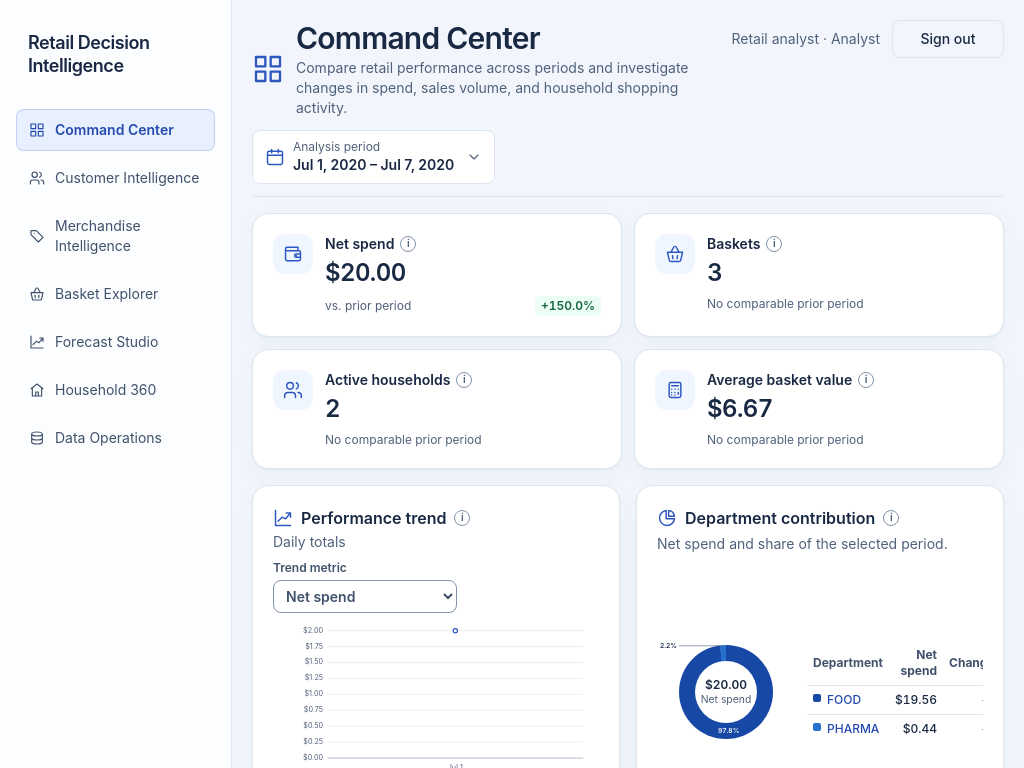
Test: Command Center › filters retail results, switches the trend metric, and opens evidence
The width and height of the screenshot is (1024, 768).
Earlier steps of the test are not shown.
Later steps or results of the test are not shown.
Select "Net units" in the dropdown labelled "Trend metric" at (365, 596), box [273,580,457,613]
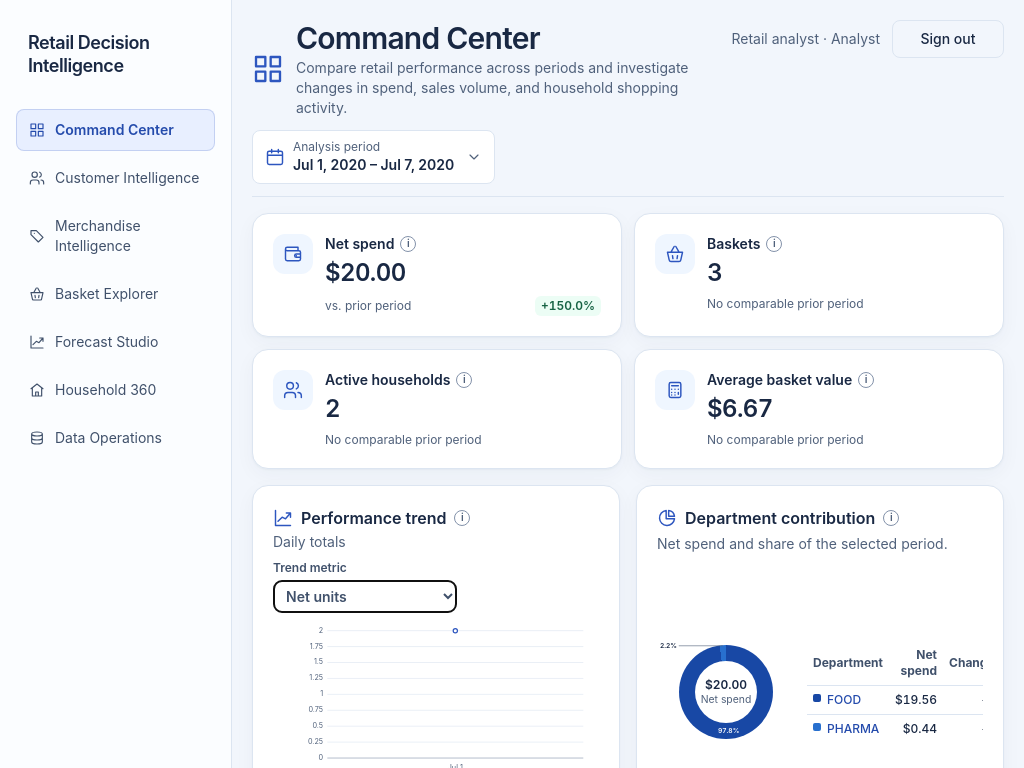
Check: the heading "Department contribution" is shown, box [657,506,875,530]
Check: the field labelled "FOOD 97.8%" is shown, box [718,726,740,734]
Click the button "PHARMA" at (853, 729), box [827,721,879,737]
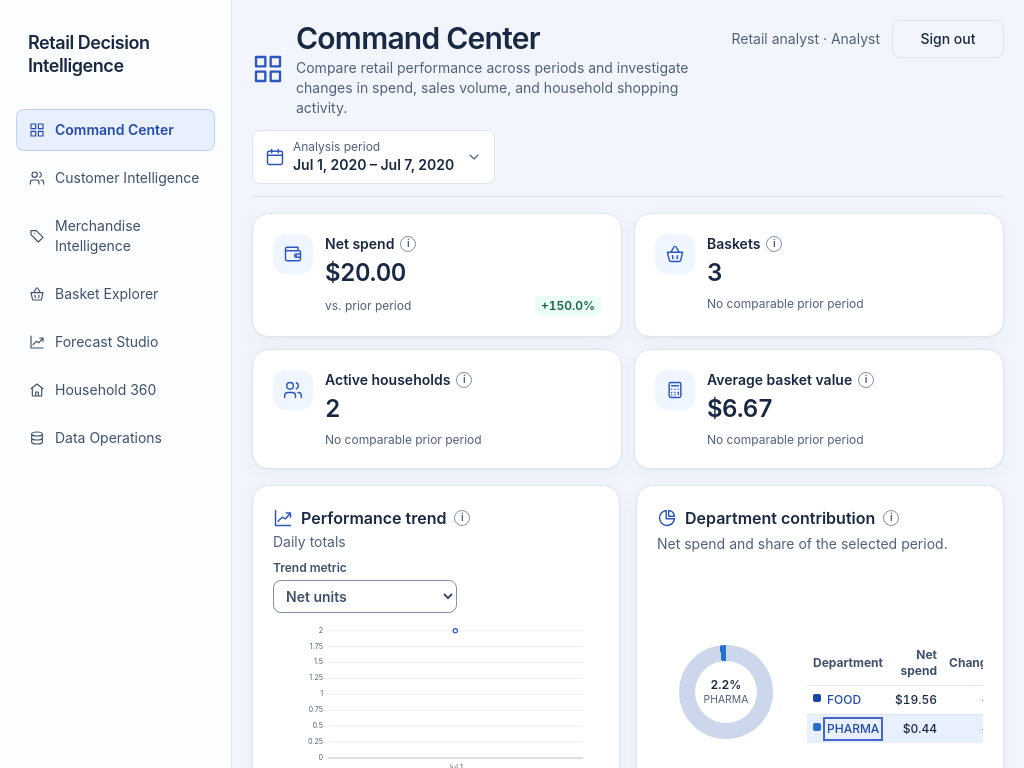
Check: the heading "Department contribution" is shown, box [657,506,875,530]
Check: the element named "Share of net spend" reads "2.2% PHARMA", box [657,639,795,745]
Click the text "Analysis period" at (337, 146), box [293,139,380,154]
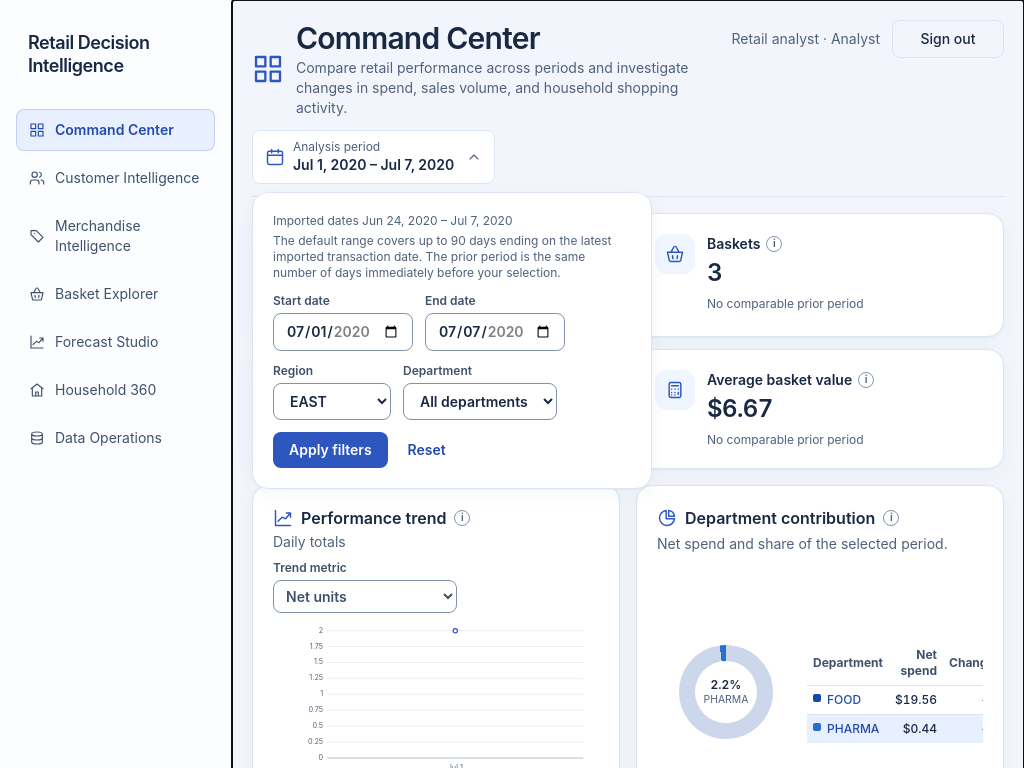
Select "FOOD" in the dropdown labelled "Department" at (480, 402), box [403,383,557,420]
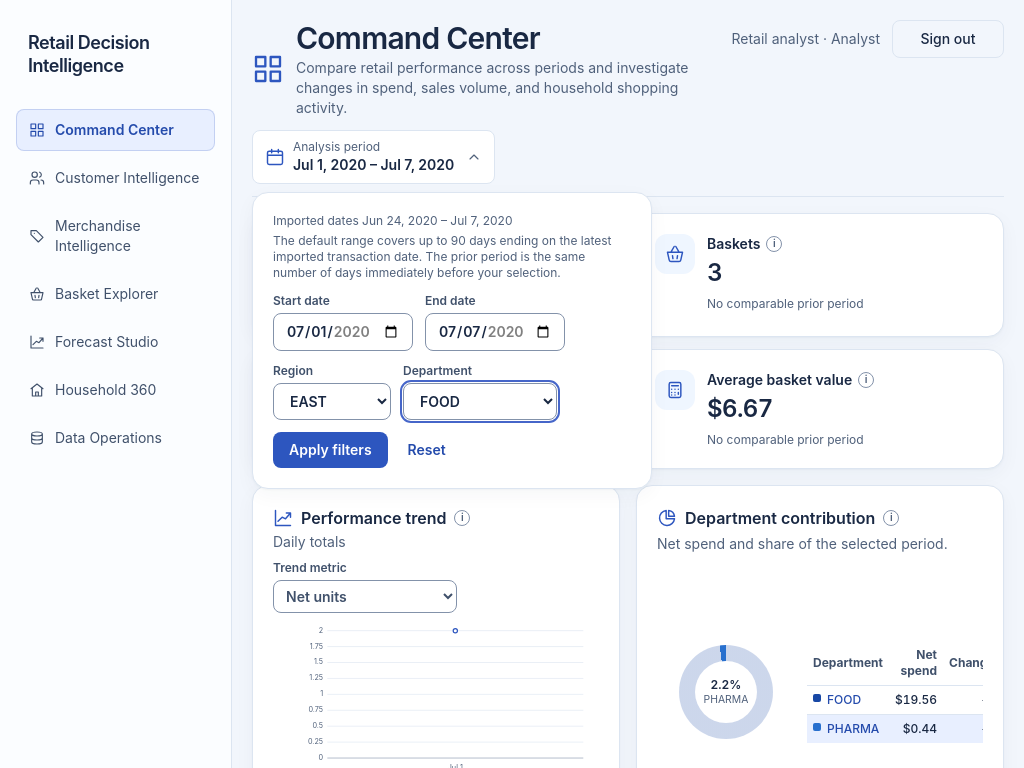
Click the button "Apply filters" at (330, 450), box [273,432,388,468]
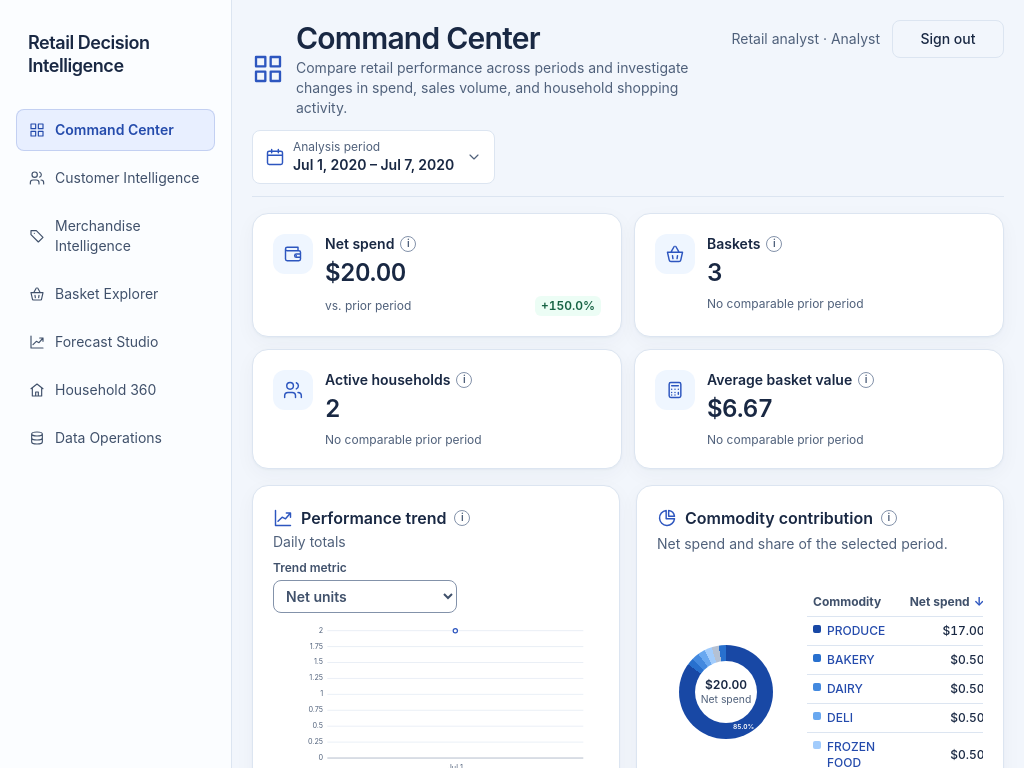
Check: the heading "Commodity contribution" is shown, box [657,506,873,530]
Check: the button "PRODUCE" is shown, box [827,623,885,639]
Check: the column heading "PRODUCE" is shown, box [807,616,904,646]
Click the button with aria-label "Sort by Net spend" at (947, 602), box [910,594,985,610]
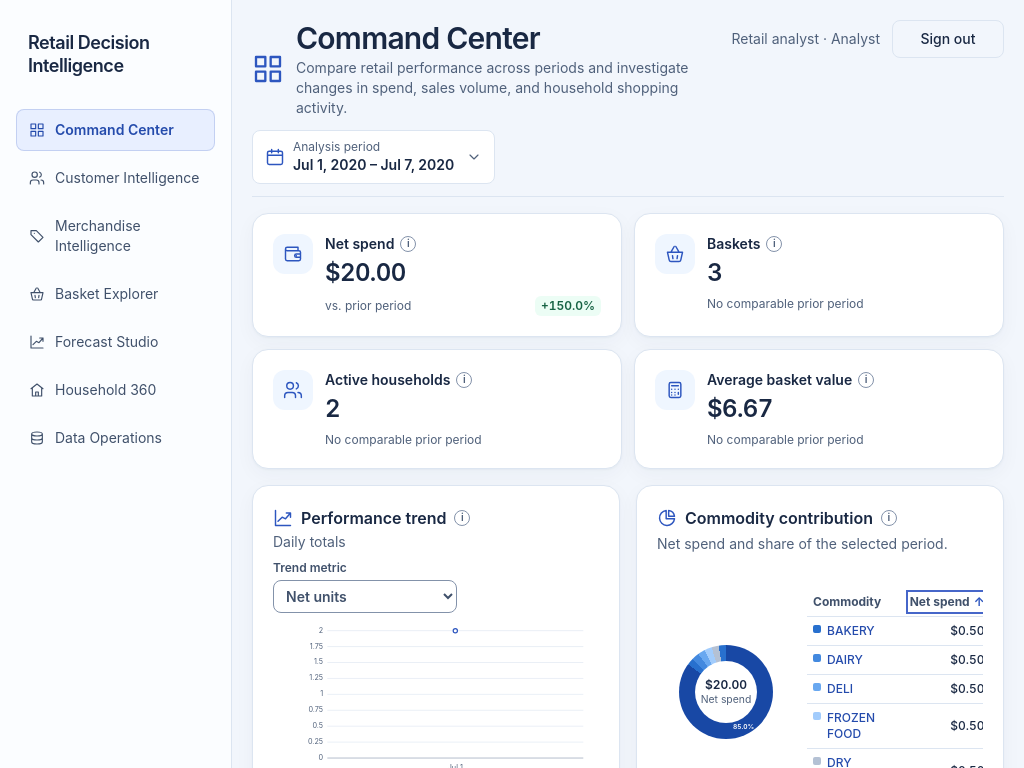
Check: the column heading "BAKERY" is shown, box [807,616,904,646]
